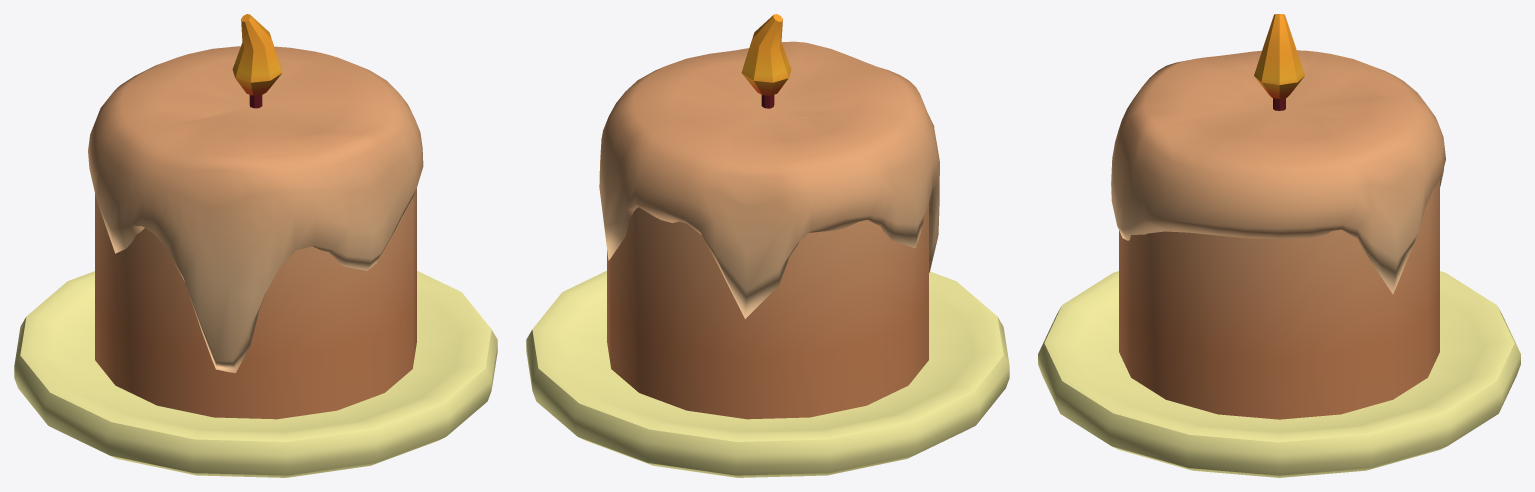
The model's file is Candle_small.fbx.
3 renders of one model, left to right at view 1: azimuth 30°, elevation 25°; view 2: azimuth 150°, elevation 25°; view 3: azimuth 270°, elevation 25°, orthographic.
Parts seen in each view (by area): view 1: Candle_small; view 2: Candle_small; view 3: Candle_small.
Part boxes in pixels (x1,y1,x2,y2): Candle_small: [14, 14, 497, 477]; Candle_small: [526, 14, 1009, 477]; Candle_small: [1038, 14, 1520, 477].
Size of the model in its own units: 50.13 by 43.49 by 50.13.
